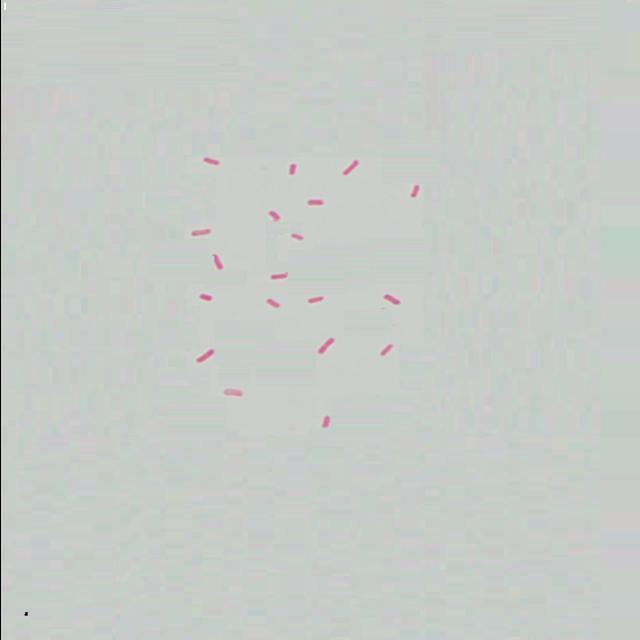E-coli: (191, 346, 219, 368), (339, 156, 365, 177), (313, 335, 337, 357), (216, 385, 246, 401), (402, 182, 424, 201), (300, 195, 328, 209), (199, 155, 222, 171), (264, 207, 284, 225), (375, 343, 397, 359), (188, 226, 212, 240), (207, 254, 225, 272), (299, 295, 326, 307), (263, 271, 289, 283), (380, 294, 402, 308), (282, 161, 300, 177), (320, 414, 335, 430), (262, 299, 284, 309), (287, 230, 305, 242), (197, 291, 213, 303)
